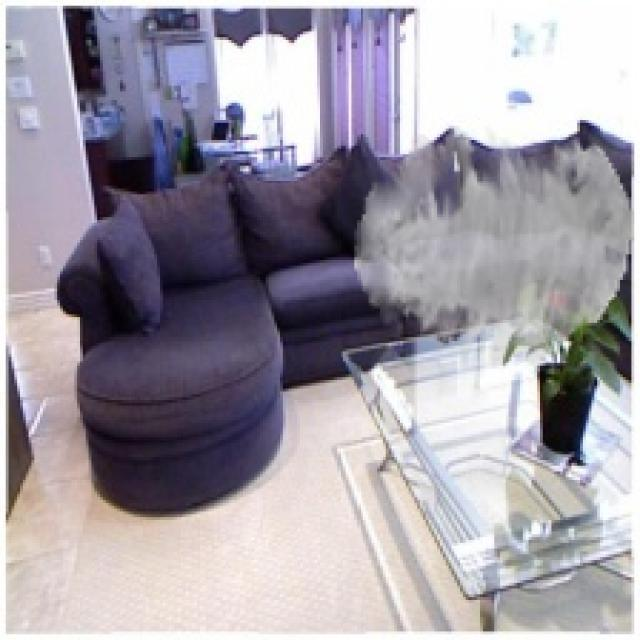Smoke: (354, 125, 634, 368)
